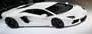front_view: (66, 6, 88, 26)
headlight: (67, 16, 77, 20)
side_glass: (22, 9, 53, 17)
